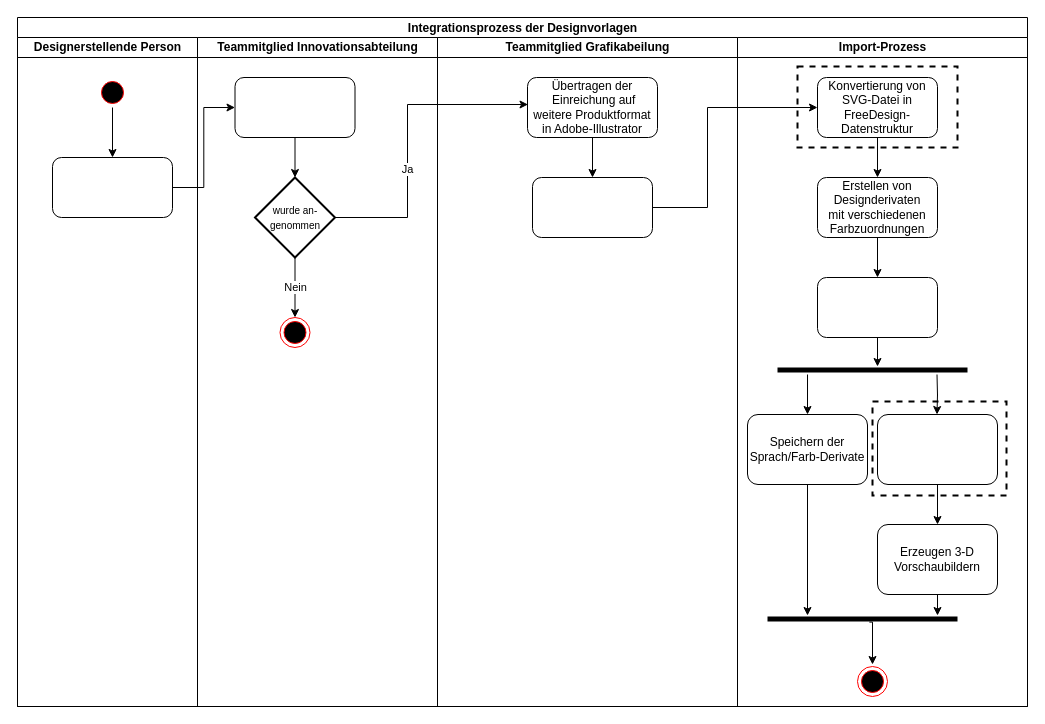
Some shapes in this 1045 by 724 pixel diagram are drawn without their labels. The shapes that lost their labels are listed below. From the top down, each one's box as (x1, y1, x2, y2) in pixels, then its label:
(234, 76, 355, 138): Designprüfung
(52, 156, 172, 218): Designeinreichung
(532, 176, 652, 238): Export als SVG-Datei
(816, 276, 938, 338): Erstellen von Designderivaten für verschiedene Länder und Sprachen
(876, 414, 998, 484): Erzeugen von SVG-Dateien der Einzelseiten der Sprach/Farb-Derivate
